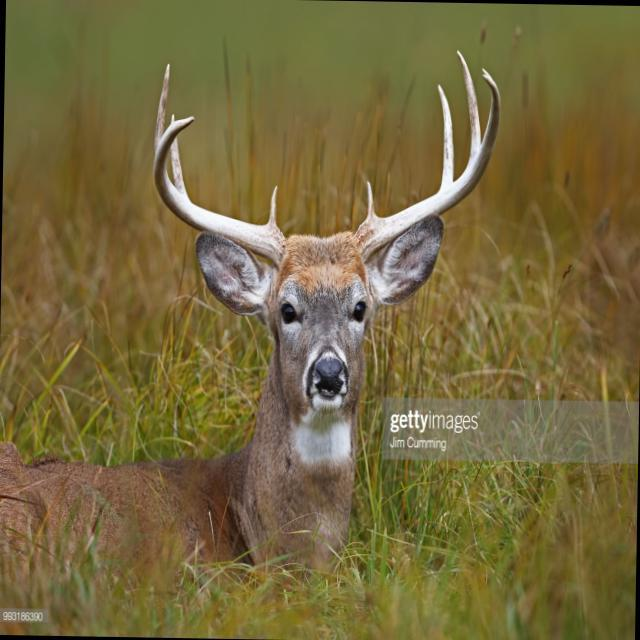L-F: (352, 67, 500, 264)
L-G1: (364, 181, 377, 222)
L-G2: (437, 84, 455, 191)
L-G3: (456, 50, 481, 165)
R-F: (153, 114, 290, 270)
R-G1: (266, 185, 277, 227)
